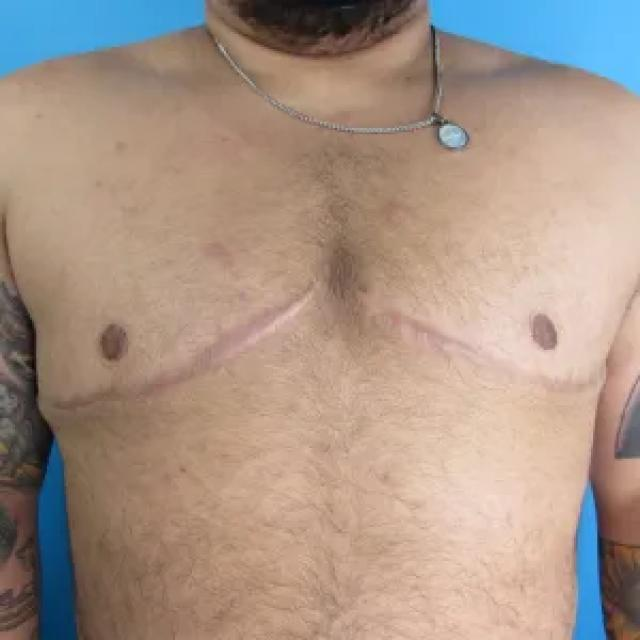Seno herido: (26, 205, 329, 442), (344, 205, 632, 418)
